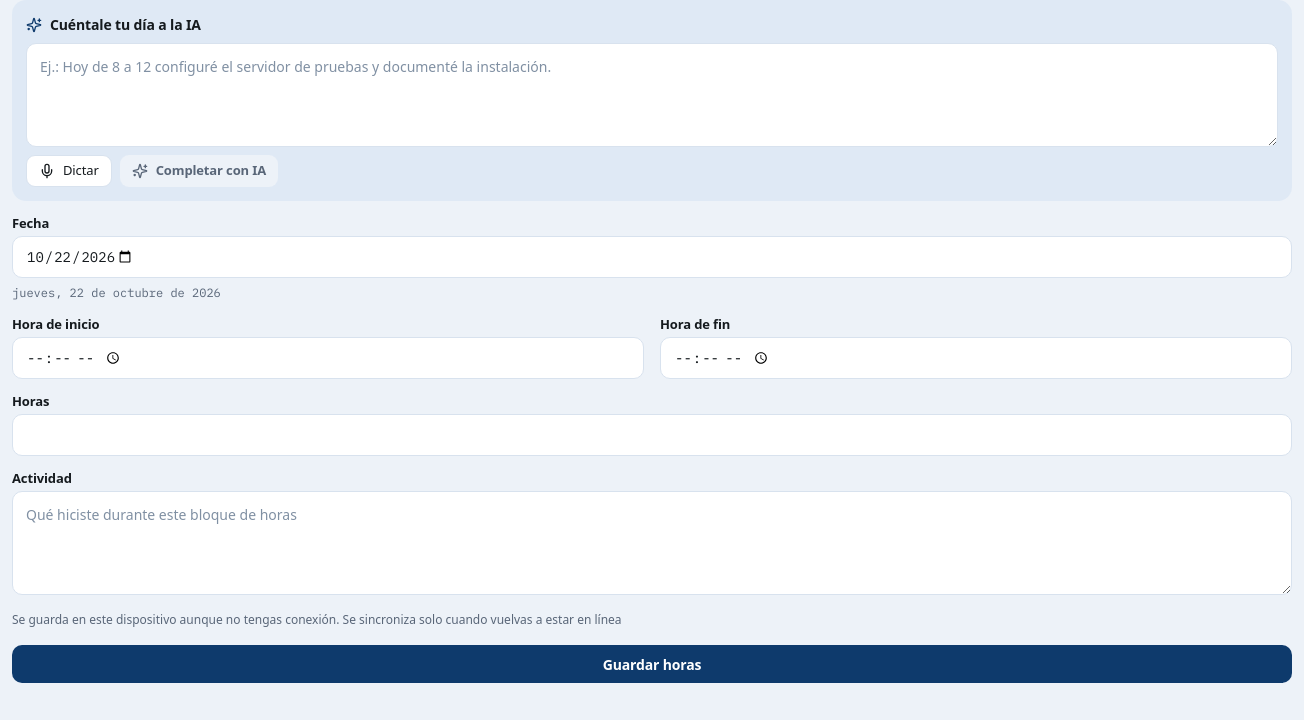
HourLogForm — horas calculadas desde inicio y fin › recalcula al cambiar la hora de fin
The image size is (1304, 720).
Type "08:00" into the time field labelled "Hora de inicio" at (328, 358), box [12,337,644,379]
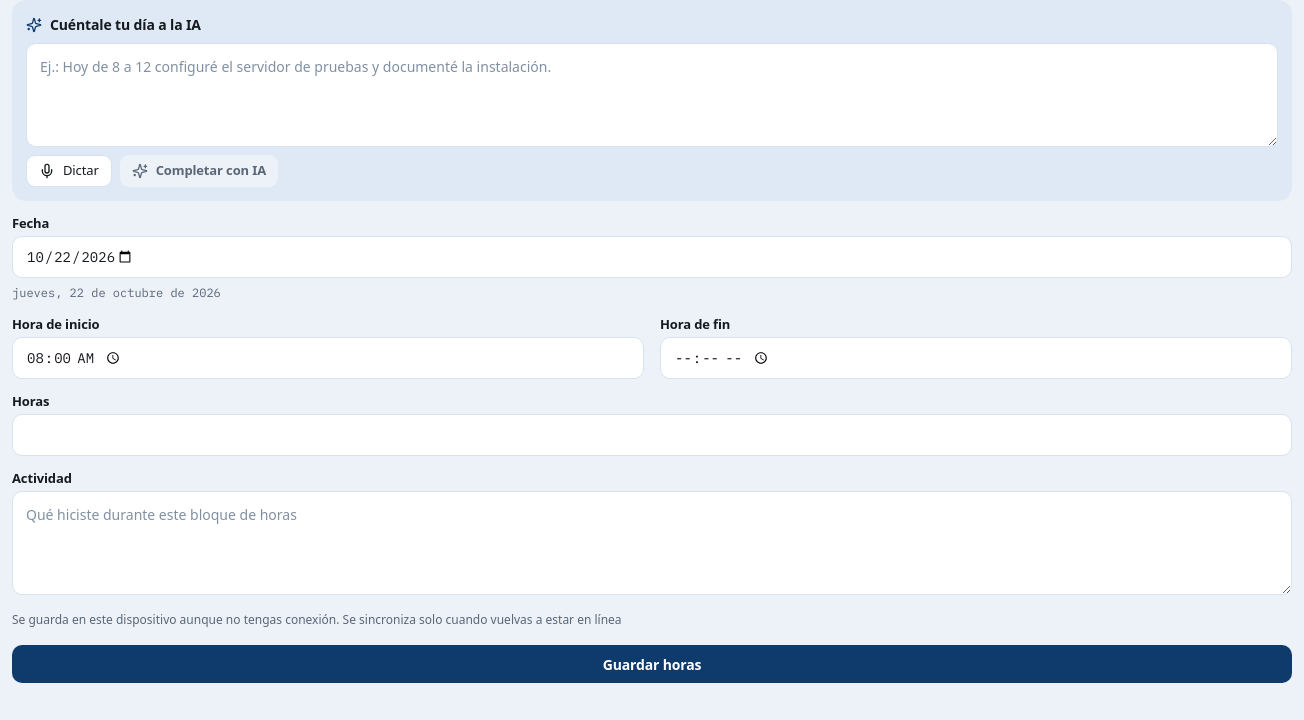
Type "12:00" into the time field labelled "Hora de fin" at (976, 358), box [660,337,1292,379]
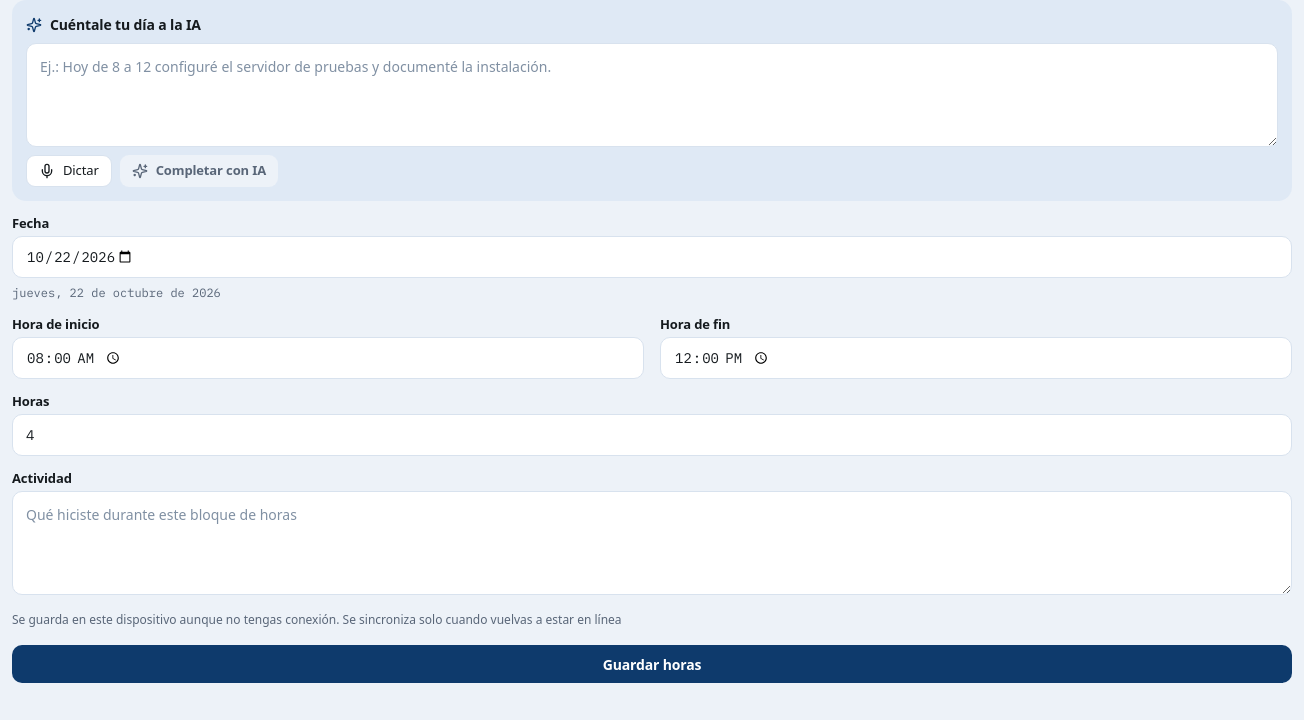
Replace the text in the time field labelled "Hora de fin" with "14:00" at (976, 358), box [660,337,1292,379]
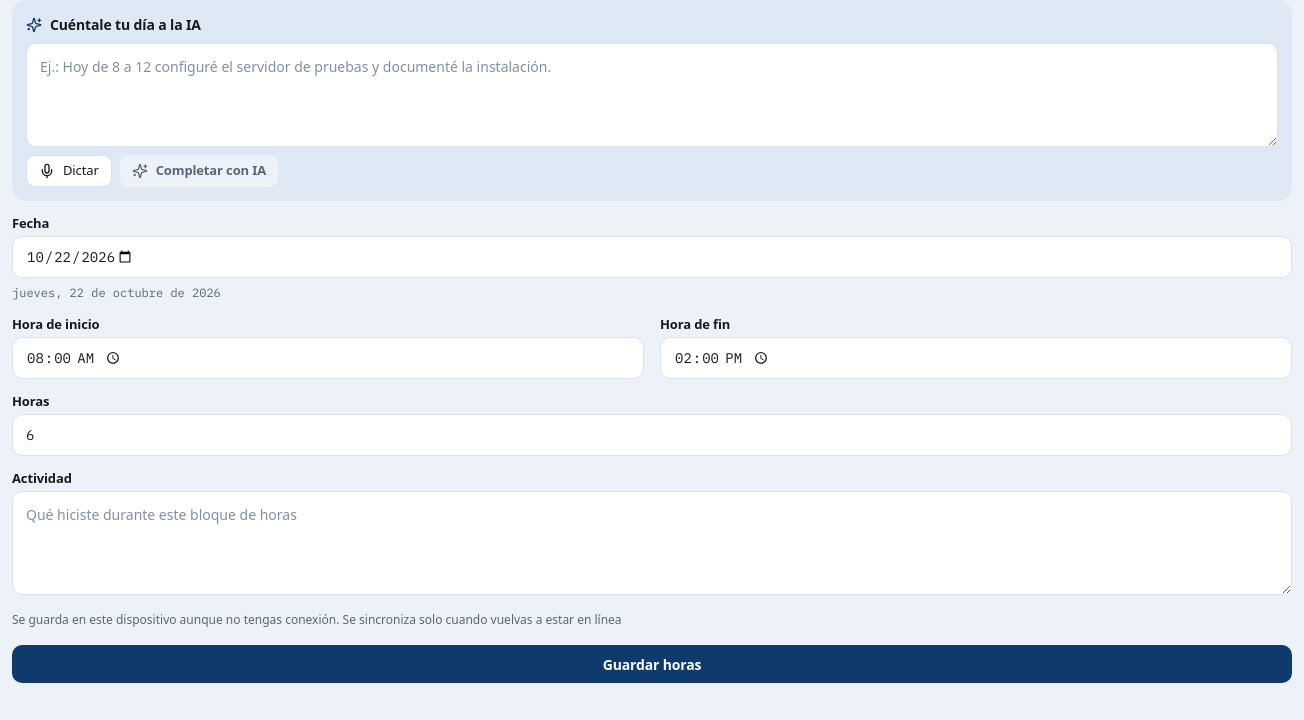
Expected: the number field labelled "Horas" holds "6", [12,414,1292,456]
